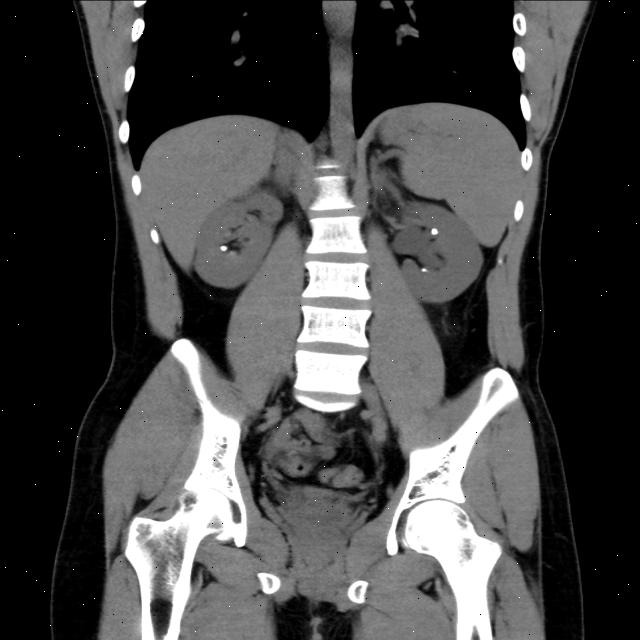kidneystone: (219, 245, 229, 252), (431, 228, 439, 235), (421, 268, 429, 272)
